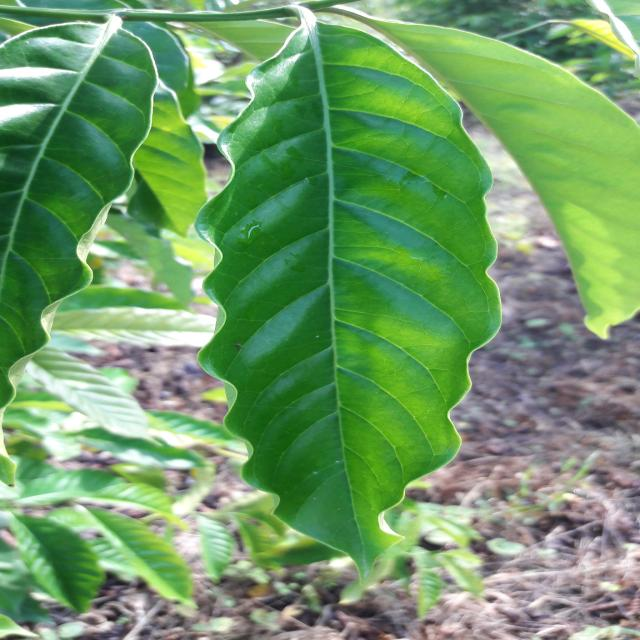Sanas: (192, 7, 640, 589)
